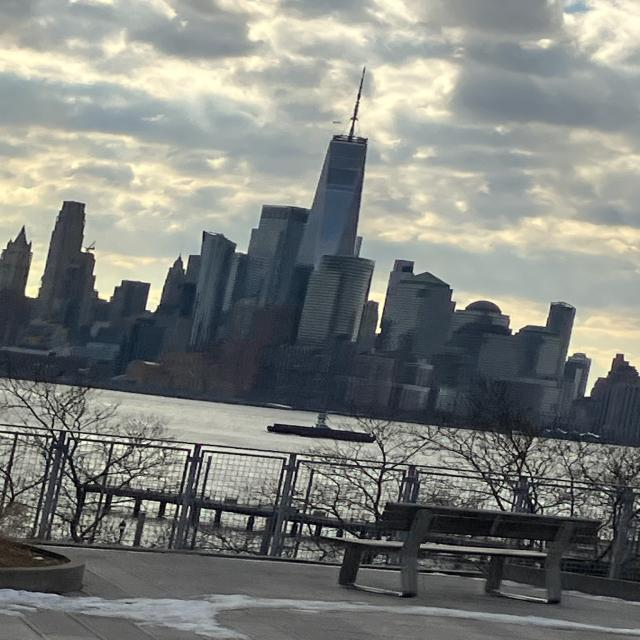WTC: (298, 59, 378, 264)
